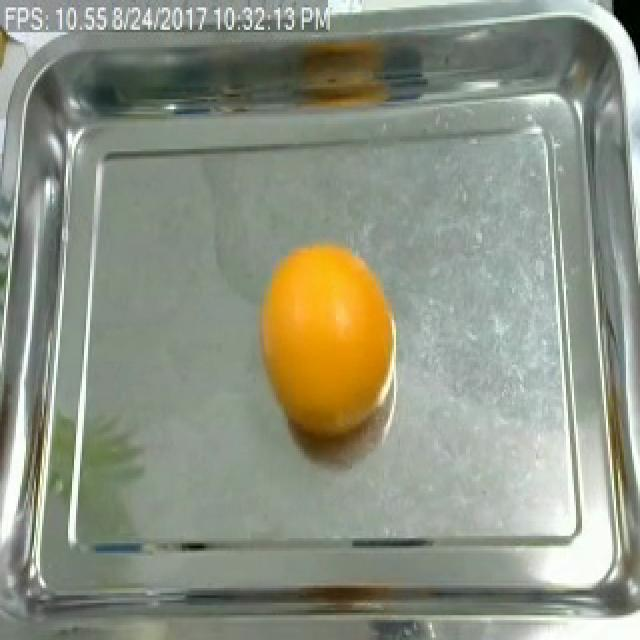Fruit: (250, 241, 402, 466), (0, 5, 18, 112)
